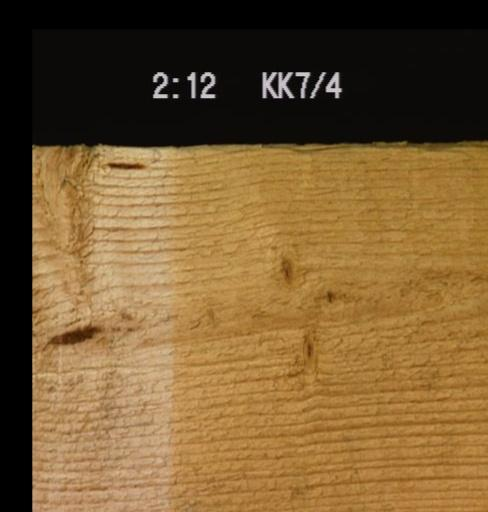sound_knot: (290, 321, 323, 377), (271, 245, 302, 291)
